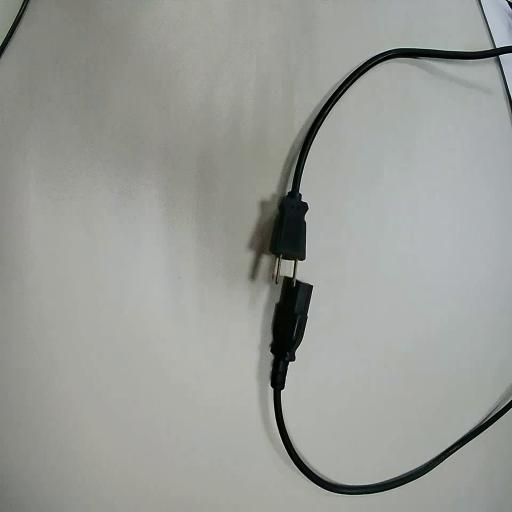wire: (259, 47, 511, 260), (271, 277, 511, 493)
